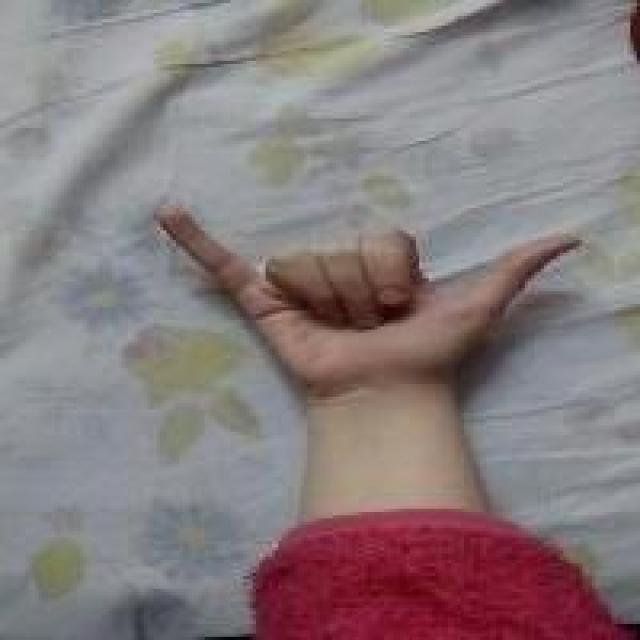Y: (149, 192, 587, 378)
